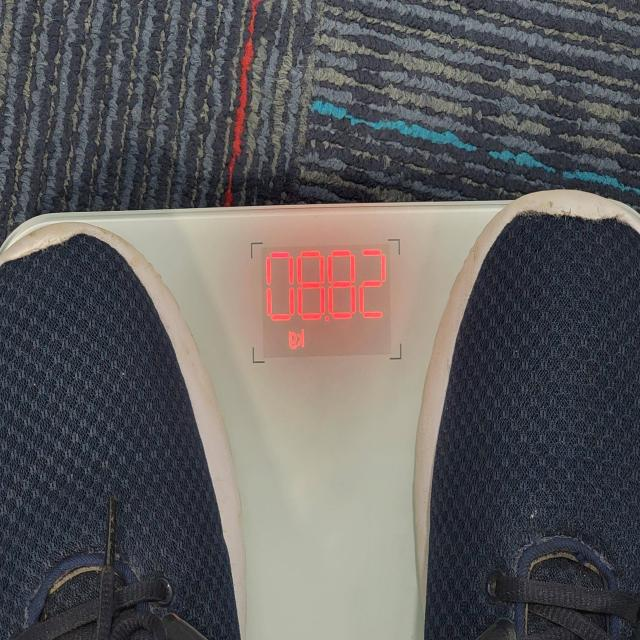ws: (0, 190, 640, 640)
